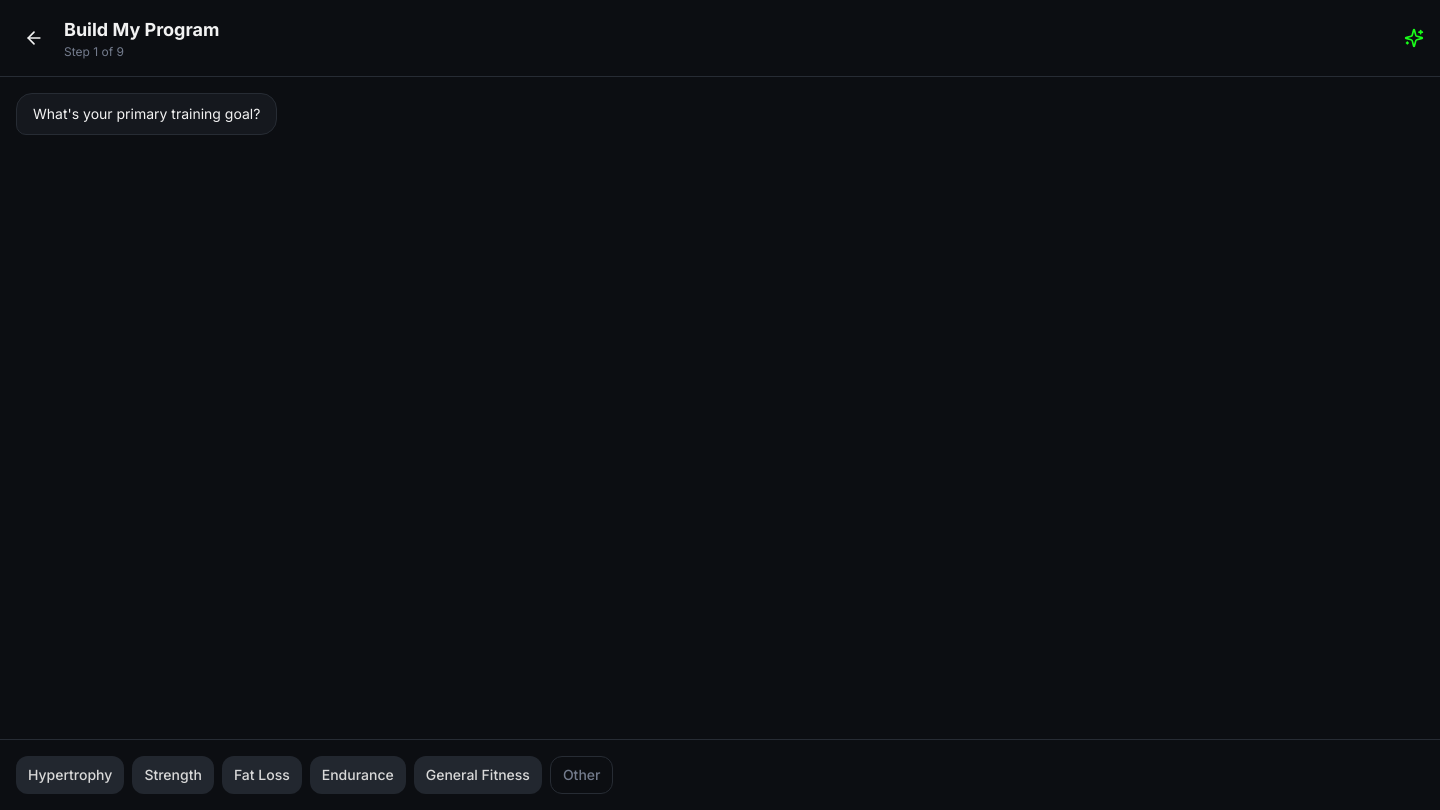
Scenario: AIProgramBuilder draft caching › starts over on request and drops the cached draft
Expected: the text "What's your primary training goal?" is shown, [33,104,260,124]
What coordinates should you click on to do the following:
click the button "Hypertrophy"
I would click on:
 (70, 775)
Its box is [16,756,124,794].
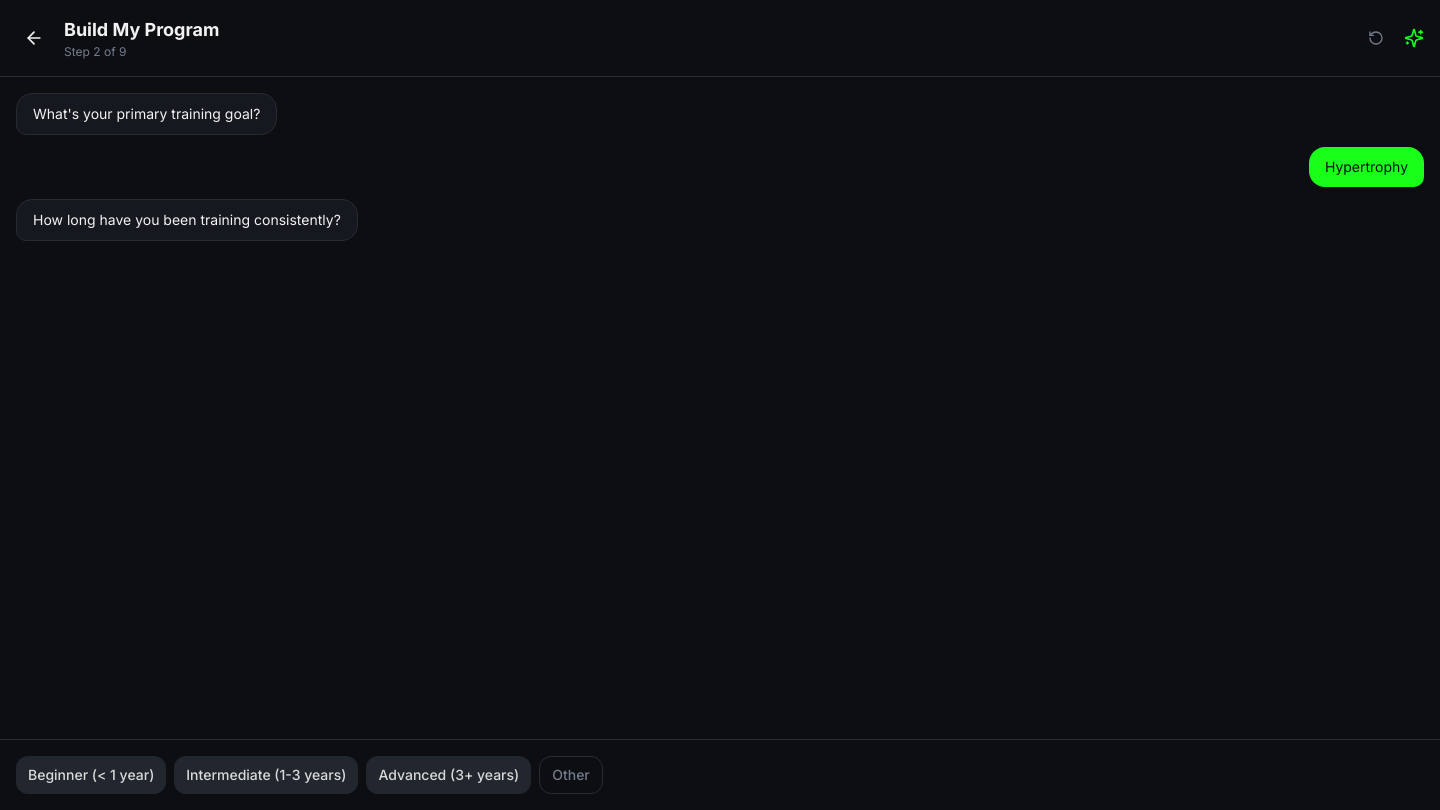
Result: the text "How long have you been training consistently?" is shown at [33,210,341,230]
What coordinates should you click on to do the following:
click the button named "Start over"
I would click on:
 (1376, 38)
Its box is [1360,22,1392,54].
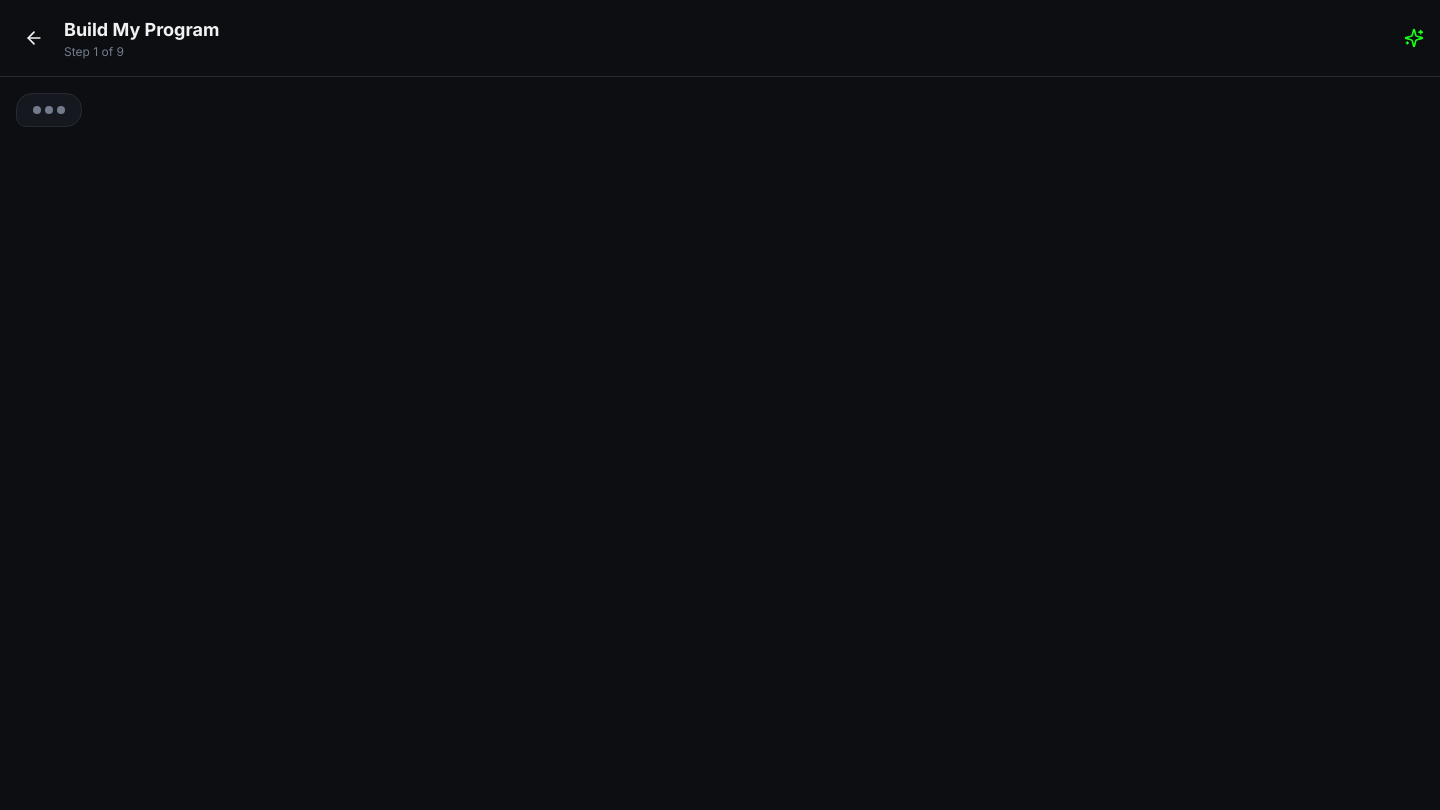
Result: the text "Hypertrophy" is gone
Result: the text "Step 1 of 9" is shown at [64,44,124,59]
